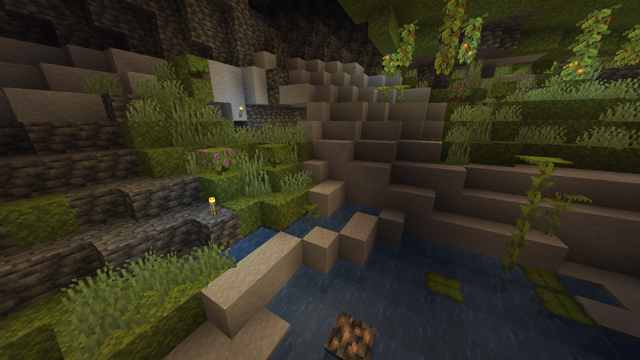copper: (265, 67, 288, 106)
diamond: (293, 108, 302, 120)
iron: (325, 311, 378, 360)
